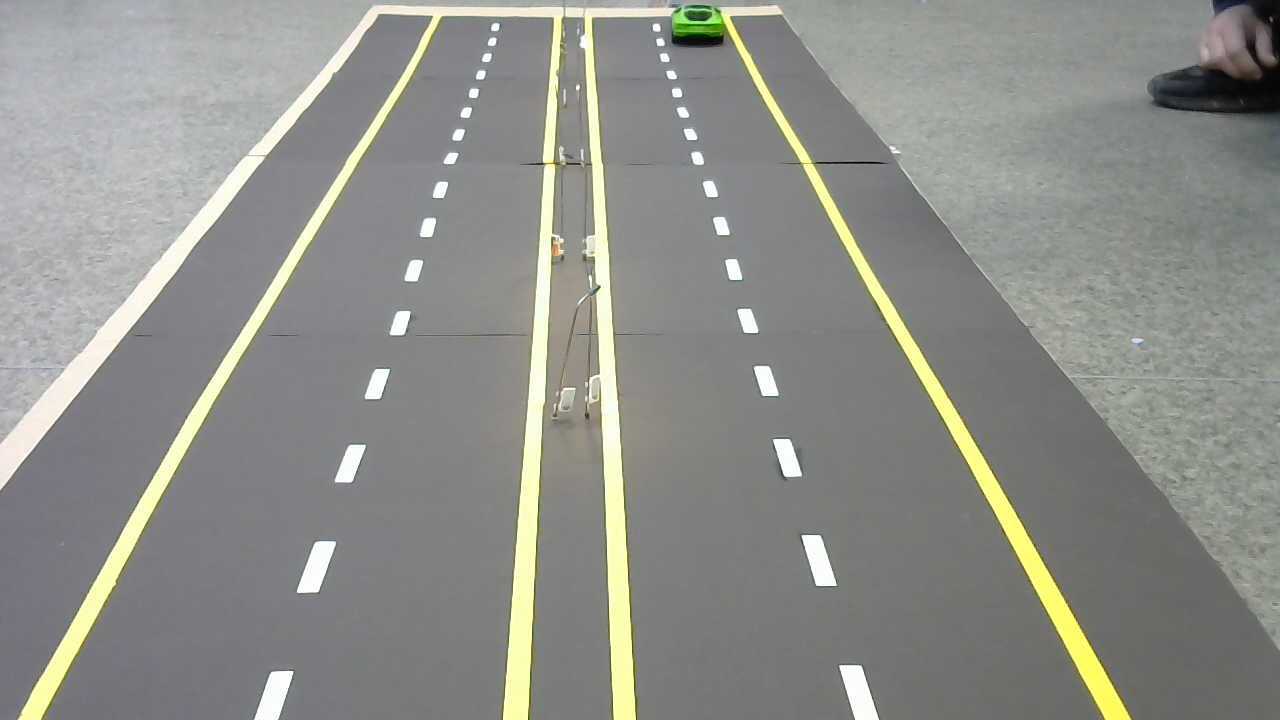back_car: (663, 6, 732, 50)
